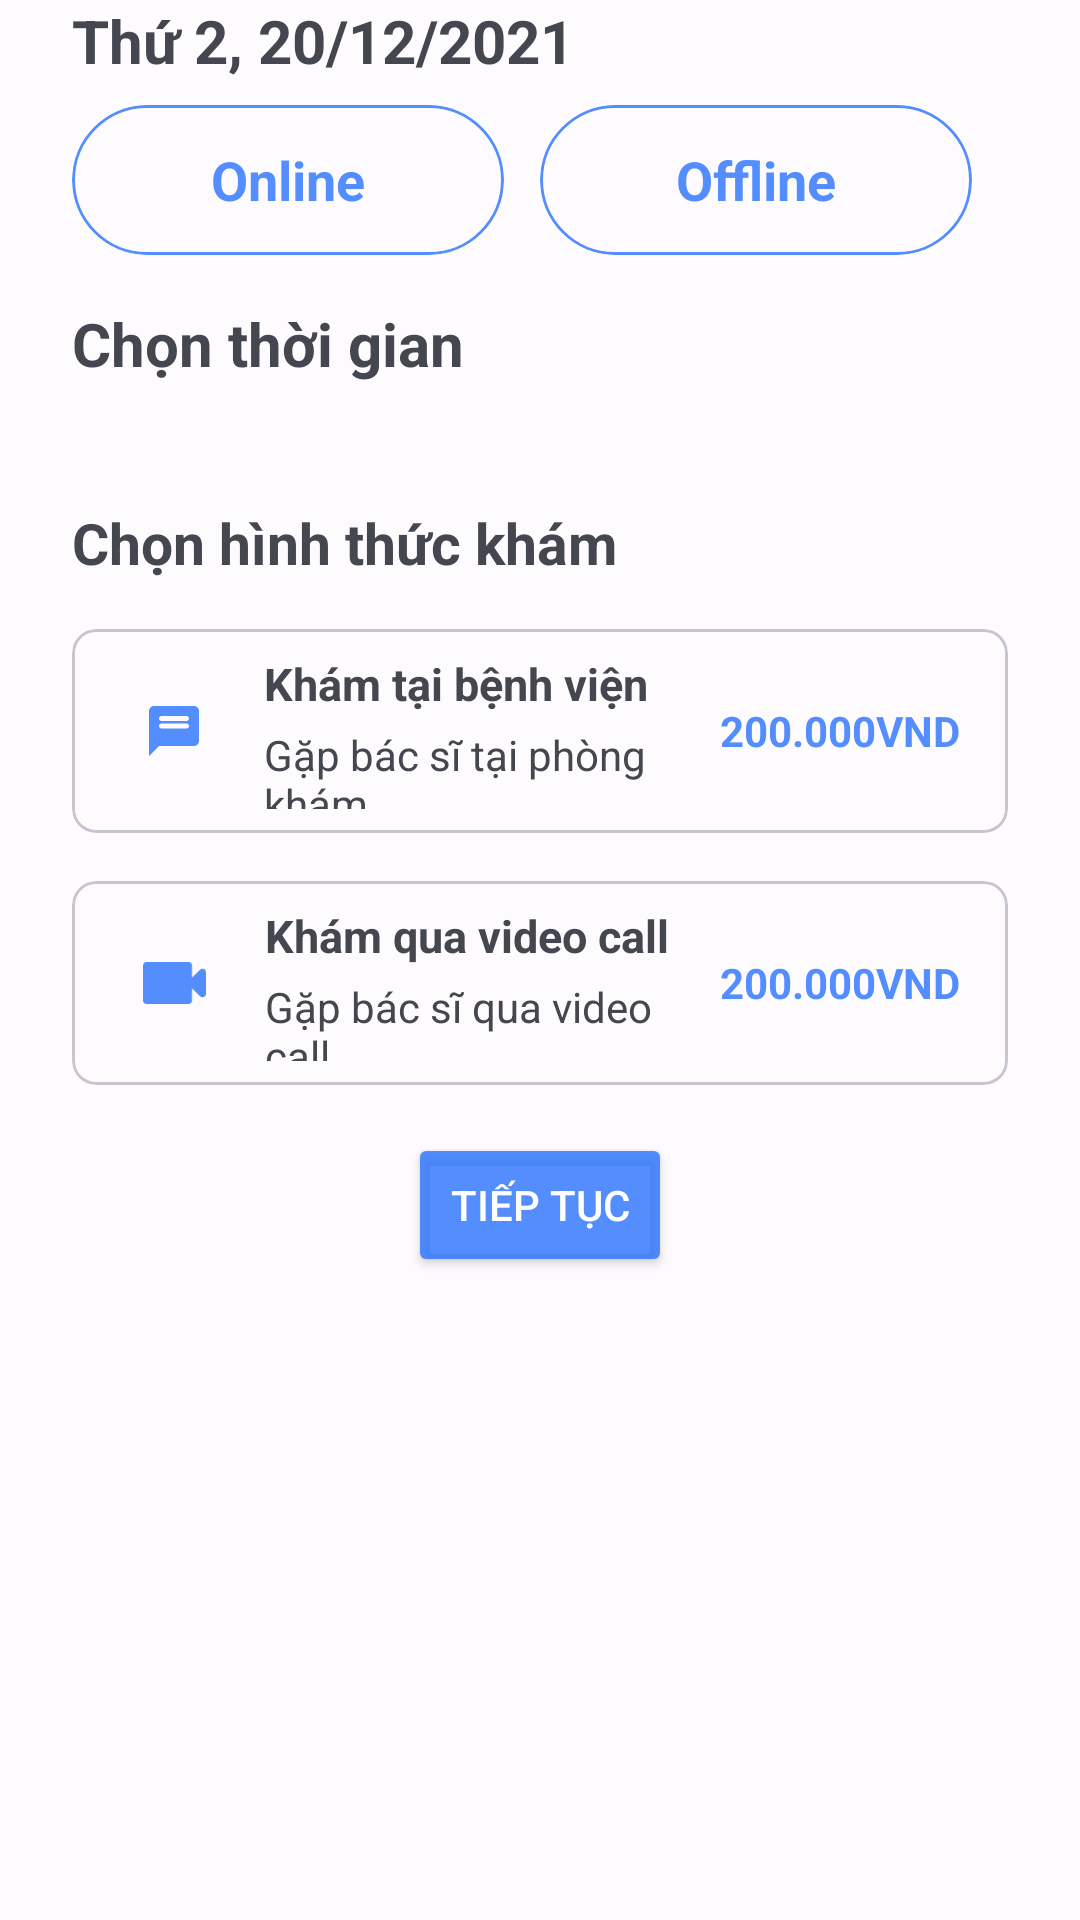

Point at icon controls on the screen. Image size 1080x1920, points as [x,y].
chat rounded: [174,731]
